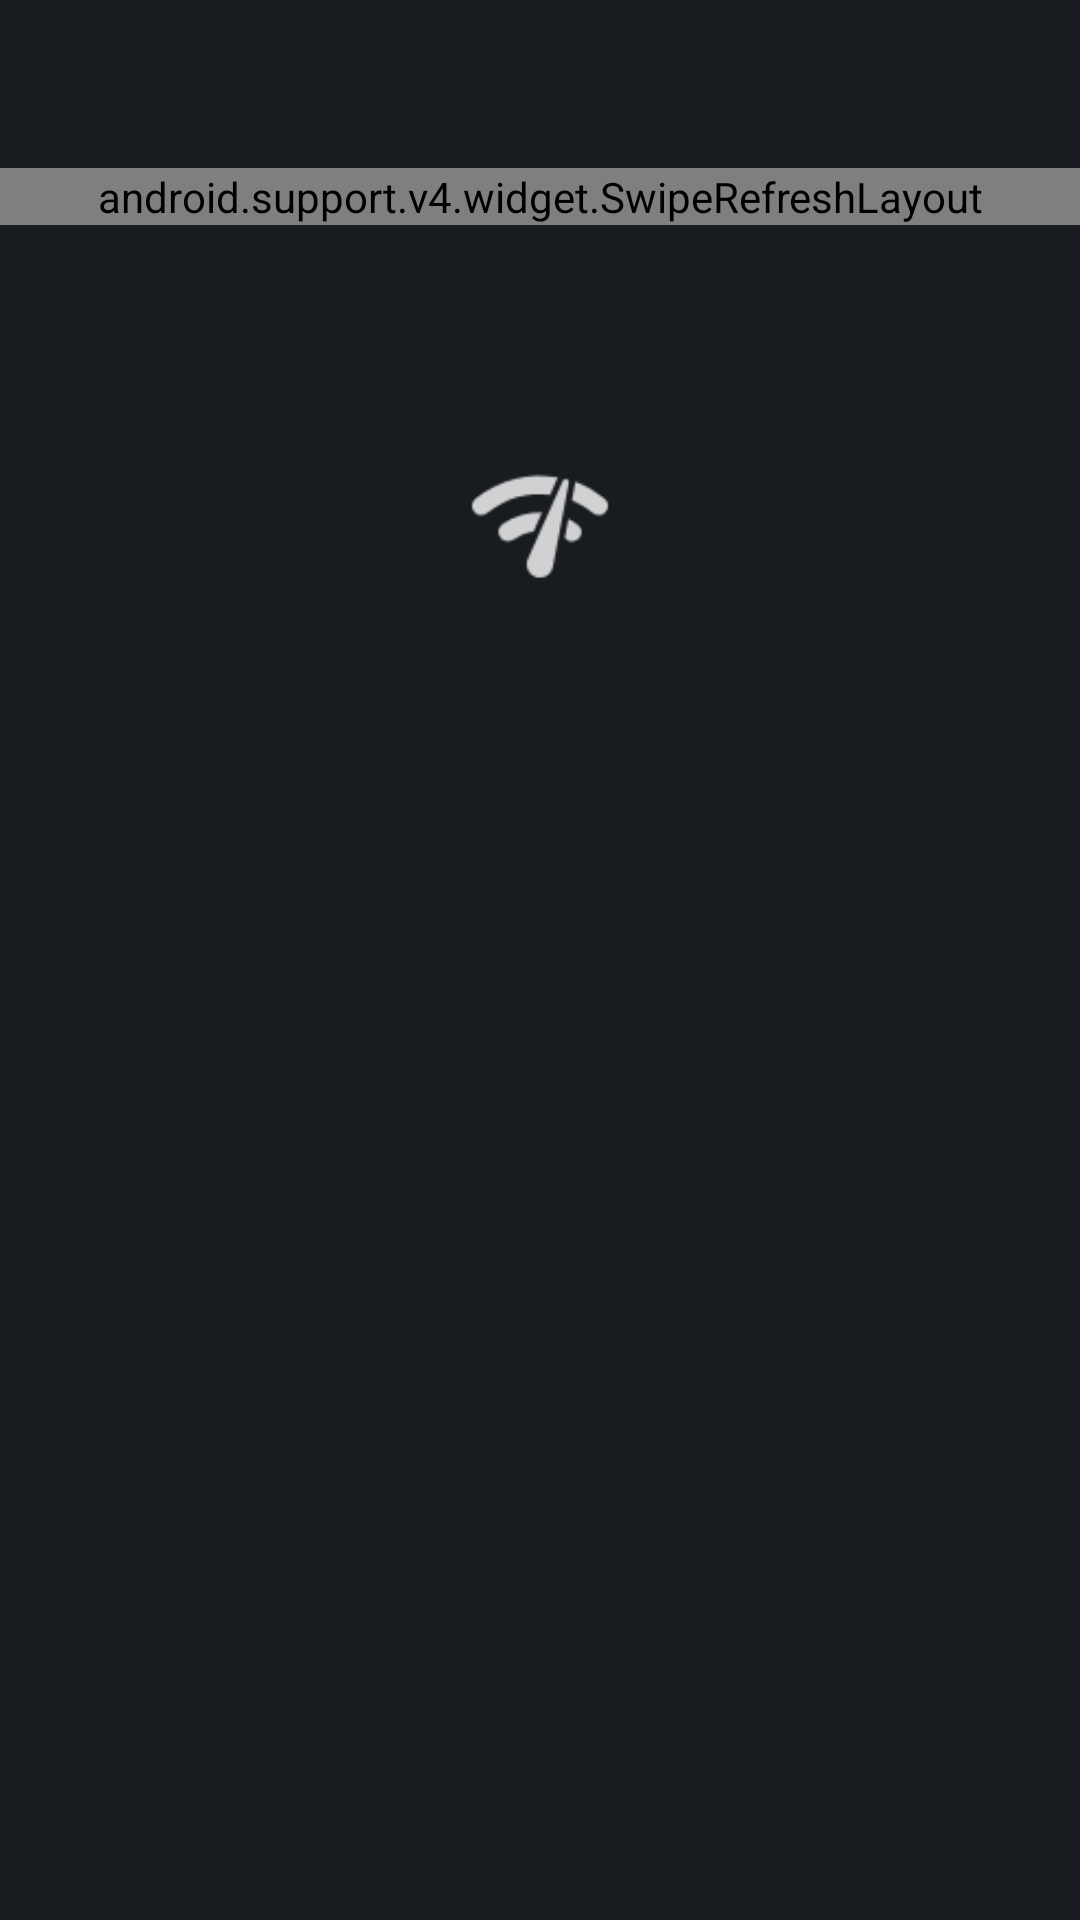

Where icons sit on this 1080w x 1920h app screen, as [left=x1, top=y1, right=x2, bottom=y2]:
network check: [left=471, top=474, right=609, bottom=578]
